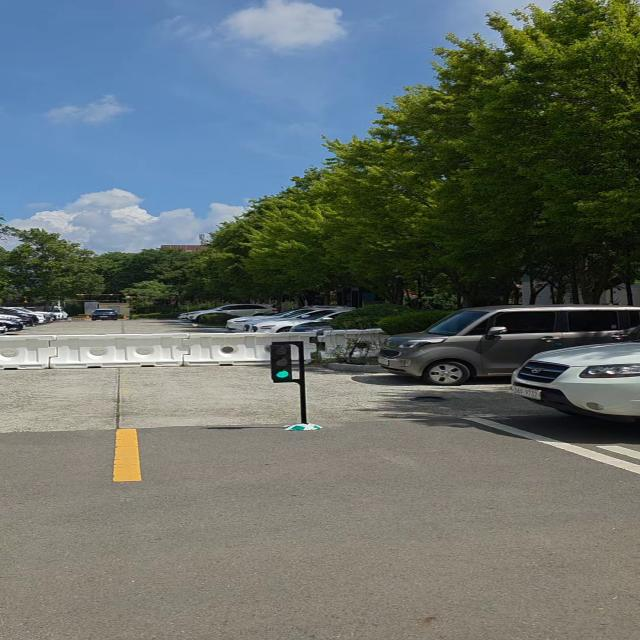green: (267, 341, 296, 382)
